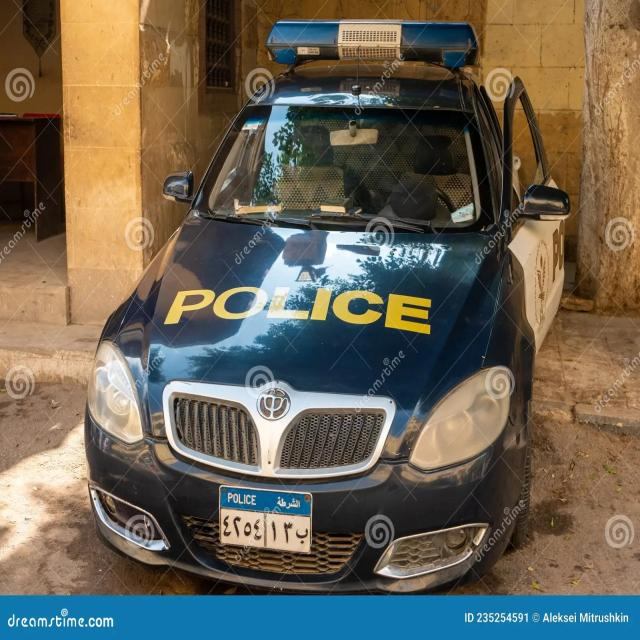police-car: (83, 18, 571, 595)
